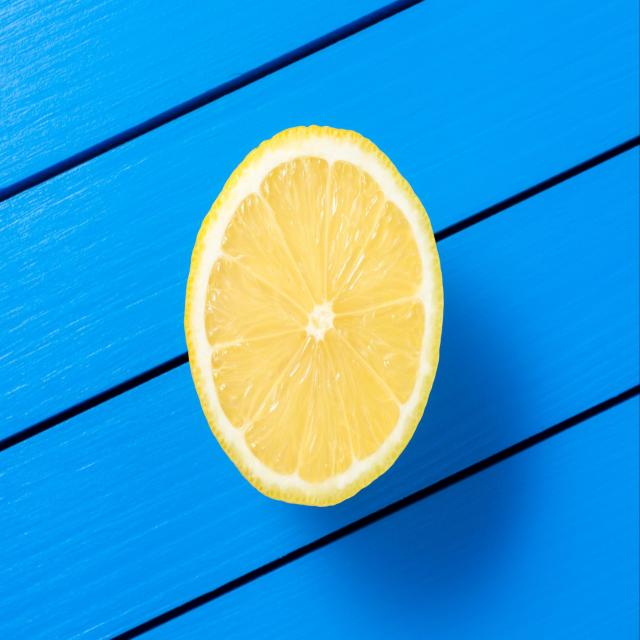lemon: (180, 115, 450, 512)
